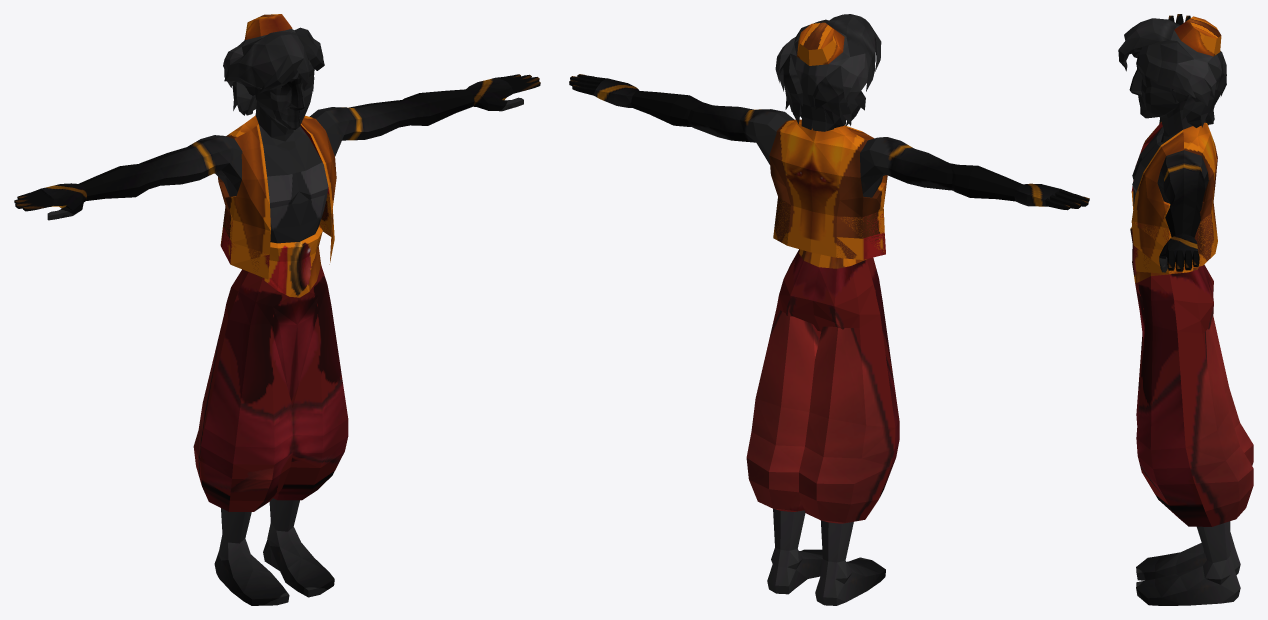
Rendered from Aladden.obj.
3 views of the same model, side by side, from view 1: azimuth 30°, elevation 25°; view 2: azimuth 150°, elevation 25°; view 3: azimuth 270°, elevation 25° (orthographic).
Parts seen in each view (by area): view 1: rdmobj00, rdmobj02, rdmobj01; view 2: rdmobj02, rdmobj00, rdmobj01; view 3: rdmobj02, rdmobj00, rdmobj01.
Part boxes in pixels (x1,y1,x2,y2): rdmobj00: (14,27,540,605); rdmobj02: (193,265,348,511); rdmobj01: (218,14,336,297); rdmobj02: (746,249,899,523); rdmobj00: (569,14,1089,605); rdmobj01: (769,22,887,268); rdmobj02: (1135,264,1253,526); rdmobj00: (1118,14,1240,605); rdmobj01: (1130,16,1221,282).
Bounding box in the file's own units: 189 × 195 × 42.33.
